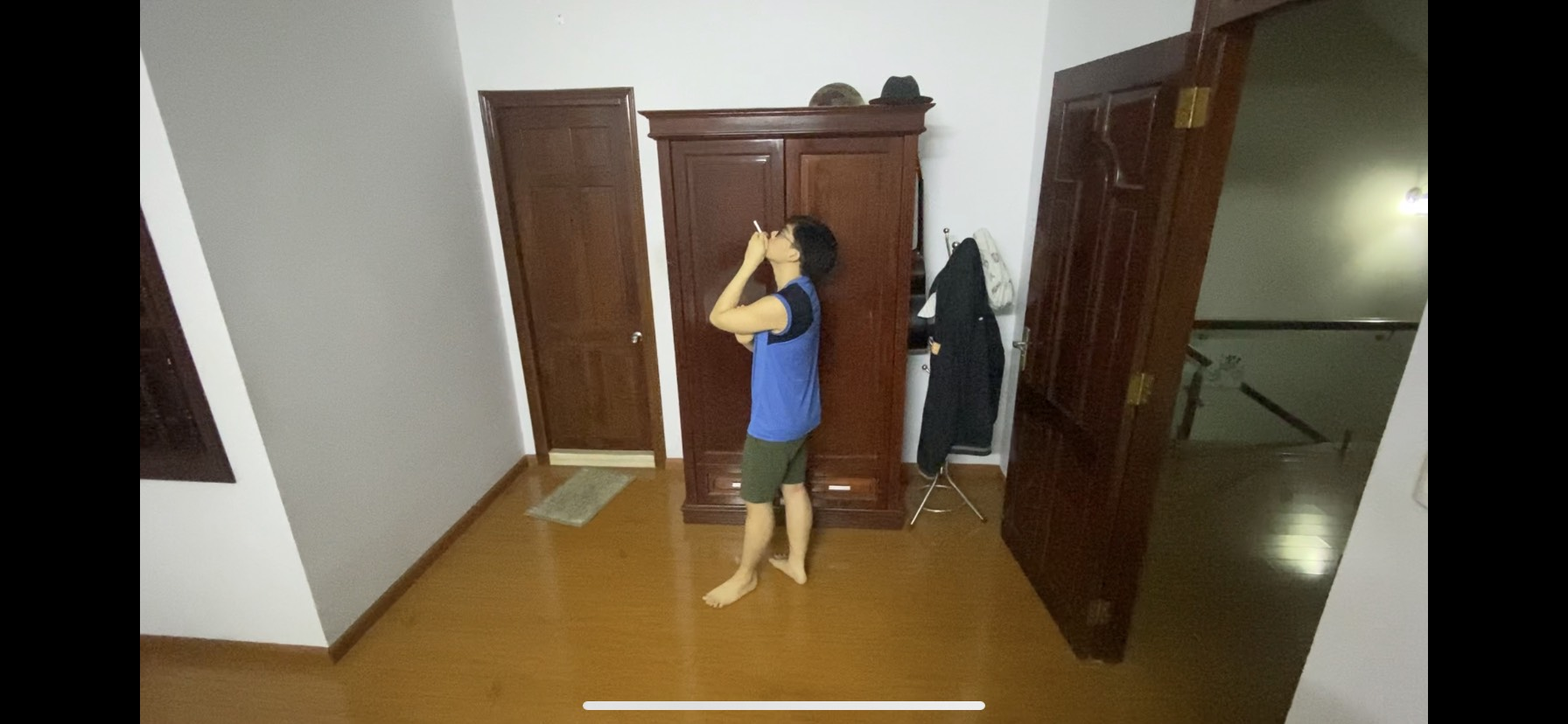cigarette: (755, 220, 769, 234)
person: (703, 194, 845, 616)
